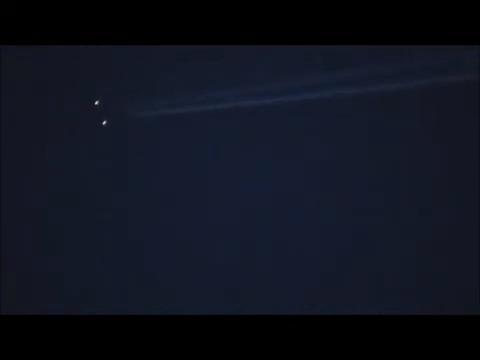Plane: (70, 62, 421, 140)
